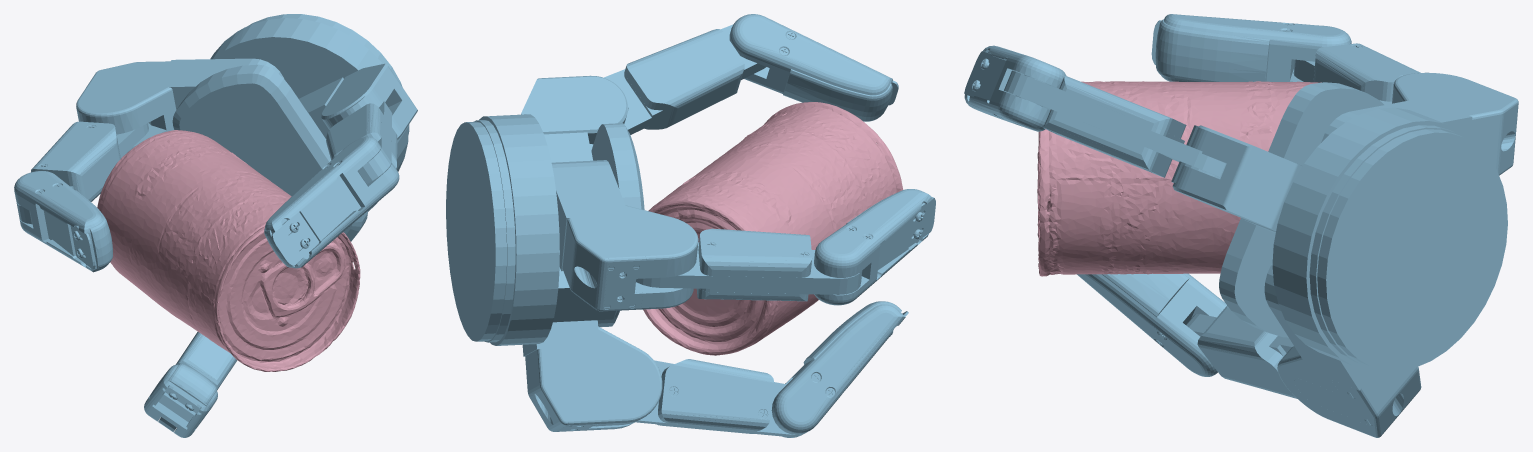
3 renders of one model, left to right at view 1: azimuth 30°, elevation 25°; view 2: azimuth 150°, elevation 25°; view 3: azimuth 270°, elevation 25°, orthographic. The views are drawn at different scales.
Visible parts, largest first — view 1: world, tomato_soup_can.stl; view 2: world, tomato_soup_can.stl; view 3: world, tomato_soup_can.stl.
Boxes of the visible parts, left/top/right/bottom form: world: left=14, top=14, right=417, bottom=437; tomato_soup_can.stl: left=97, top=130, right=360, bottom=371; world: left=446, top=14, right=935, bottom=437; tomato_soup_can.stl: left=643, top=102, right=903, bottom=355; world: left=964, top=14, right=1518, bottom=437; tomato_soup_can.stl: left=1037, top=81, right=1321, bottom=276.
Bounding box in the file's own units: 0.1846 × 0.144 × 0.1905.
